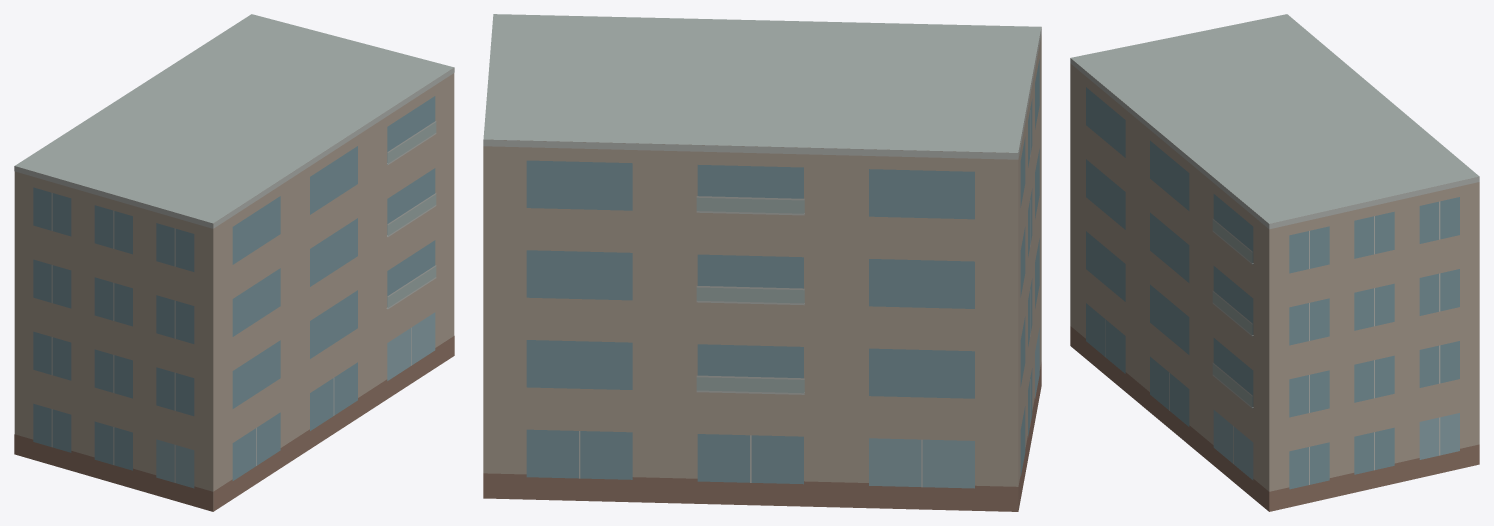
Rendered from survey-upis-32997320.glb.
The picture shows the model from 3 angles, left to right: view 1: azimuth 30°, elevation 25°; view 2: azimuth 150°, elevation 25°; view 3: azimuth 270°, elevation 25°; orthographic projection. The views are drawn at different scales.
Visible parts, largest first — view 1: survey-upis-32997320.tmp; view 2: survey-upis-32997320.tmp; view 3: survey-upis-32997320.tmp.
Boxes of the visible parts, <box> form: survey-upis-32997320.tmp: <box>14,14,454,511</box>; survey-upis-32997320.tmp: <box>483,14,1041,511</box>; survey-upis-32997320.tmp: <box>1070,14,1479,511</box>.
Bounding box in the file's own units: 20.34 × 13 × 16.76.
